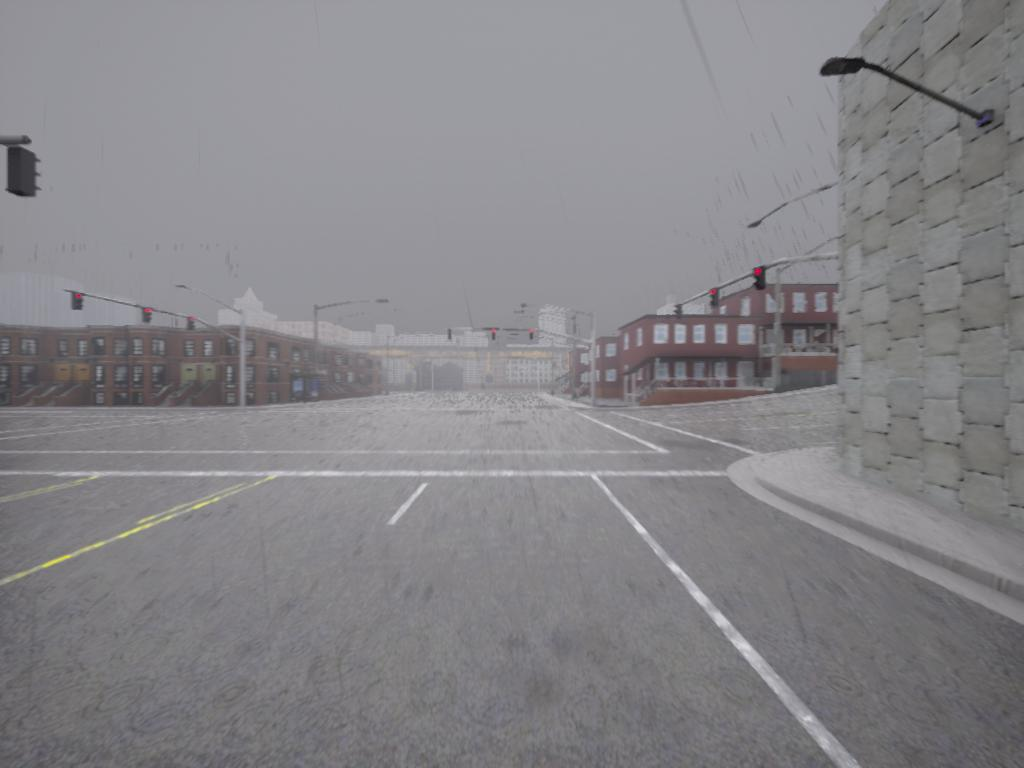traffic_light: (5, 144, 45, 201), (74, 291, 87, 311), (755, 268, 766, 291), (673, 302, 683, 323), (711, 288, 721, 307), (187, 317, 196, 336), (145, 309, 155, 325), (530, 329, 539, 341), (490, 329, 499, 341), (447, 328, 455, 341)
